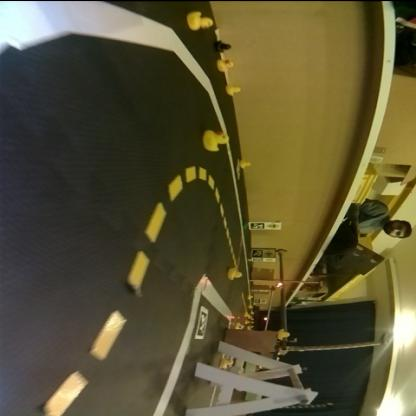Duckie: (204, 129, 228, 151), (188, 12, 214, 30), (218, 59, 234, 70), (227, 84, 241, 96), (228, 269, 243, 278), (241, 160, 251, 168), (280, 332, 289, 340), (247, 294, 254, 300), (236, 323, 244, 328)
Intersection sign: (267, 223, 281, 229)
QR code: (196, 306, 209, 338), (255, 249, 263, 256), (252, 223, 263, 228)
Traffic light: (276, 282, 284, 288)
